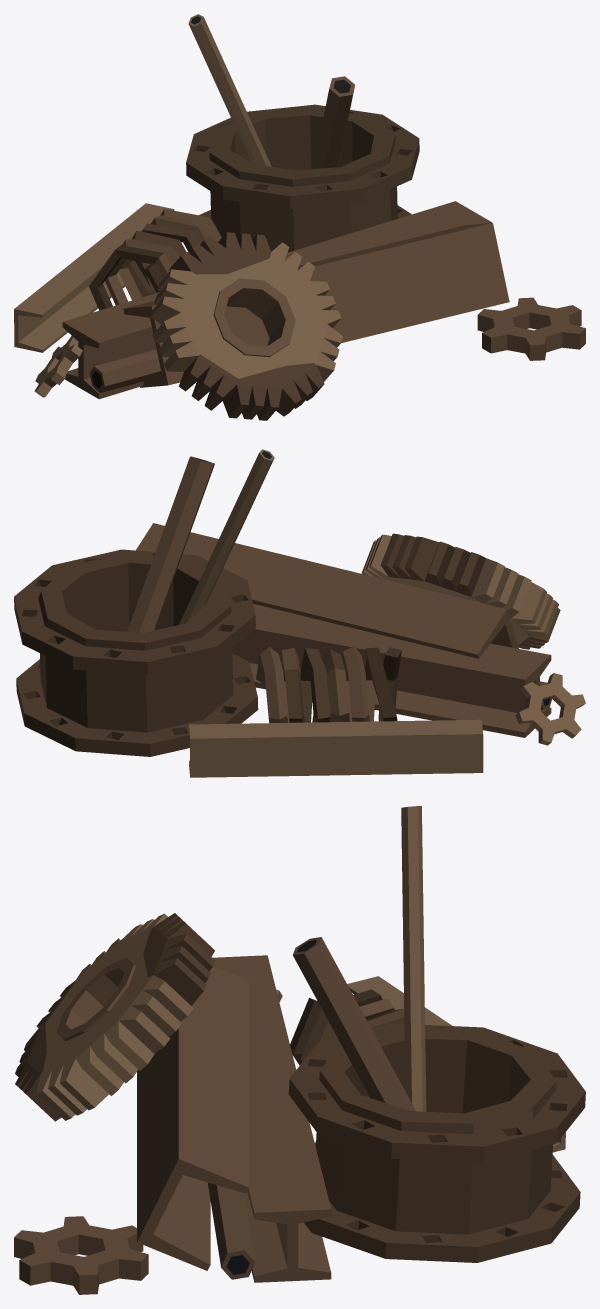
The model's file is SM_Scrap.fbx.
3 renders of one model, top to bottom at view 1: azimuth 30°, elevation 25°; view 2: azimuth 150°, elevation 25°; view 3: azimuth 270°, elevation 25°, orthographic. The views are drawn at different scales.
Parts seen in each view (by area): view 1: SM_Scrap; view 2: SM_Scrap; view 3: SM_Scrap.
Part boxes in pixels (bbox=[...]): SM_Scrap: bbox=[14, 14, 585, 420]; SM_Scrap: bbox=[14, 449, 585, 777]; SM_Scrap: bbox=[14, 806, 585, 1294].
Size of the model in its own units: 131 by 72 by 108.
